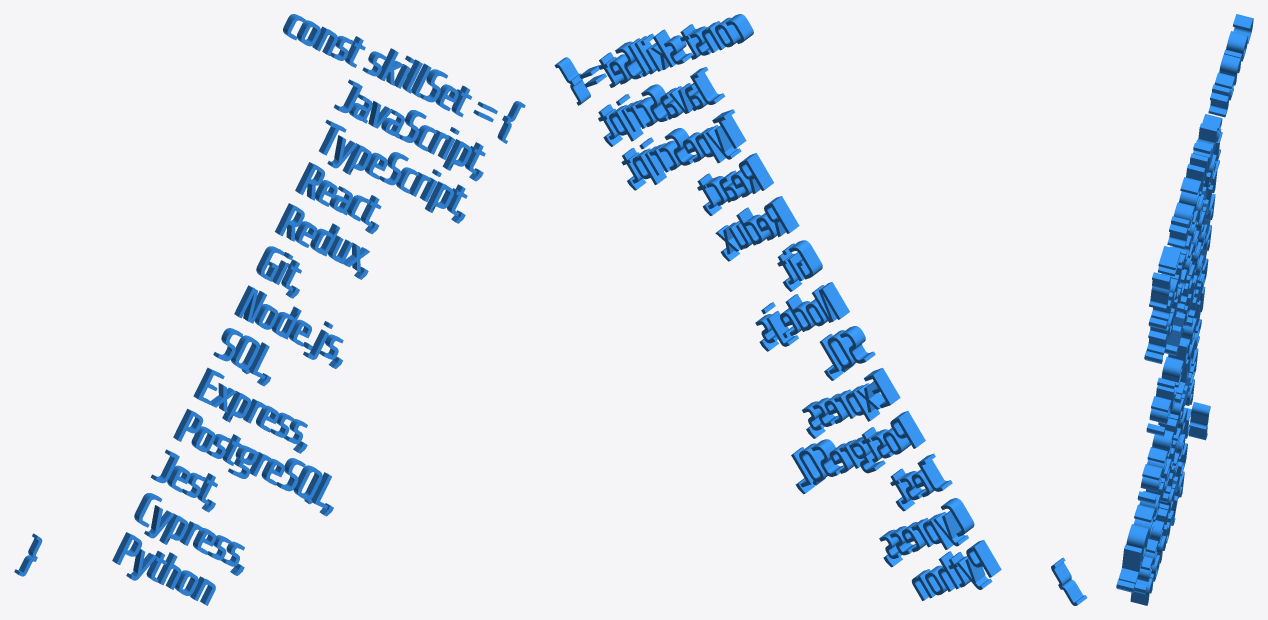
File: ProjectName.obj
The picture shows the model from 3 angles, left to right: view 1: azimuth 30°, elevation 25°; view 2: azimuth 150°, elevation 25°; view 3: azimuth 270°, elevation 25°; orthographic projection. The views are drawn at different scales.
Visible parts, largest first — view 1: 043_3D_Text_-_N; view 2: 043_3D_Text_-_N, 061_3D_Text_-_R, 055_3D_Text_-_R, 000_3D_Text_-_}, 051_3D_Text_-_G, 001_3D_Text_-_P, 020_3D_Text_-_P, 103_3D_Text_-_{; view 3: 029_3D_Text_-_L, 103_3D_Text_-_{, 000_3D_Text_-_}, 093_3D_Text_-_t, 101_3D_Text_-_t, 099_3D_Text_-_S, 102_3D_Text_-_=, 028_3D_Text_-_Q, 091_3D_Text_-_n, 037_3D_Text_-_s, 049_3D_Text_-_s, 076_3D_Text_-_t (+28 smaller).
Boxes of the visible parts, box(x1,y1,x2,y2) form: 043_3D_Text_-_N: box(234, 285, 266, 323); 043_3D_Text_-_N: box(812, 282, 849, 322); 061_3D_Text_-_R: box(738, 153, 773, 193); 055_3D_Text_-_R: box(764, 196, 799, 237); 000_3D_Text_-_}: box(1051, 557, 1087, 605); 051_3D_Text_-_G: box(788, 240, 822, 279); 001_3D_Text_-_P: box(966, 540, 1001, 577); 020_3D_Text_-_P: box(890, 411, 925, 448); 103_3D_Text_-_{: box(554, 57, 590, 105); 029_3D_Text_-_L: box(1118, 544, 1142, 584); 103_3D_Text_-_{: box(1149, 272, 1170, 310); 000_3D_Text_-_}: box(1188, 402, 1210, 440); 093_3D_Text_-_t: box(1208, 84, 1230, 117); 101_3D_Text_-_t: box(1167, 216, 1189, 248); 099_3D_Text_-_S: box(1179, 177, 1201, 211); 102_3D_Text_-_=: box(1158, 246, 1181, 276); 028_3D_Text_-_Q: box(1126, 524, 1149, 567); 091_3D_Text_-_n: box(1219, 49, 1241, 85); 037_3D_Text_-_s: box(1140, 464, 1162, 491); 049_3D_Text_-_s: box(1149, 396, 1171, 423); 076_3D_Text_-_t: box(1146, 326, 1169, 355).
Bounding box in the file's own units: 552 × 564 × 105.
